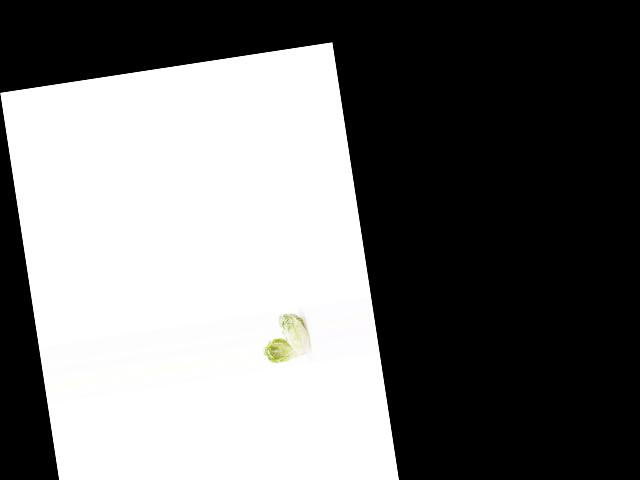lettuce: (274, 308, 313, 361)
